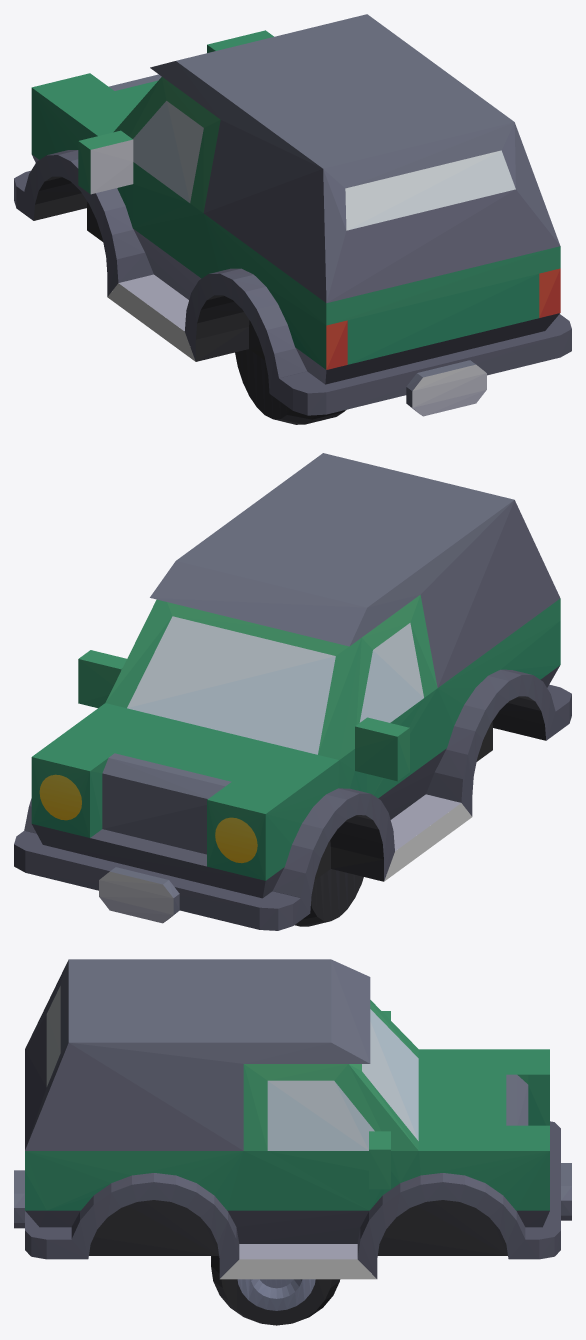
The model's file is suv.glb.
The picture shows the model from 3 angles, top to bottom: view 1: azimuth 30°, elevation 25°; view 2: azimuth 150°, elevation 25°; view 3: azimuth 270°, elevation 25°; orthographic projection. The views are drawn at different scales.
Visible parts, largest first — view 1: trim, wheel, paint; view 2: trim, wheel, paint; view 3: trim, wheel, paint.
Part boxes in pixels (bbox=[...]): trim: bbox=[14, 14, 571, 416]; wheel: bbox=[235, 349, 346, 424]; paint: bbox=[107, 283, 195, 361]; trim: bbox=[14, 453, 571, 930]; wheel: bbox=[294, 869, 363, 926]; paint: bbox=[384, 803, 471, 881]; trim: bbox=[14, 959, 571, 1278]; wheel: bbox=[211, 1256, 340, 1325]; paint: bbox=[220, 1259, 376, 1279].
Bounding box in the file's own units: 1.5 × 1.6 × 2.55.
